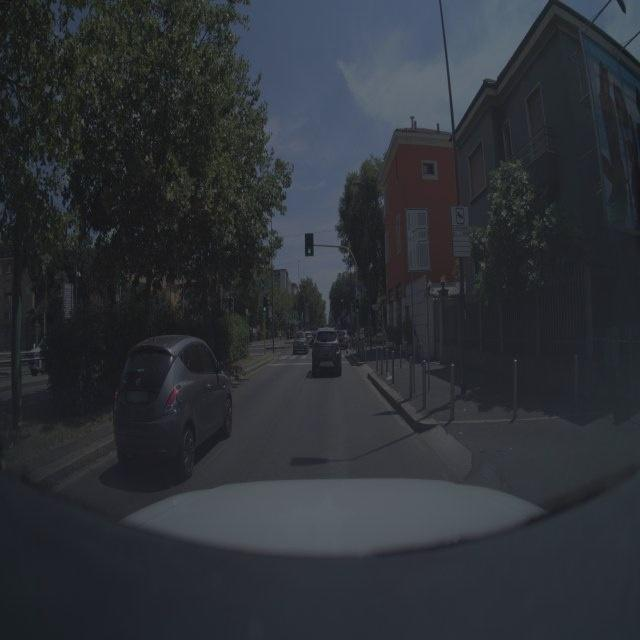Green: (300, 228, 320, 262)
